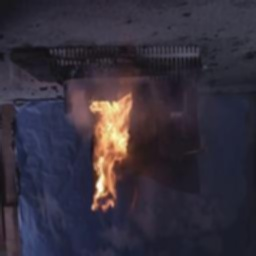fire: (79, 91, 148, 217)
